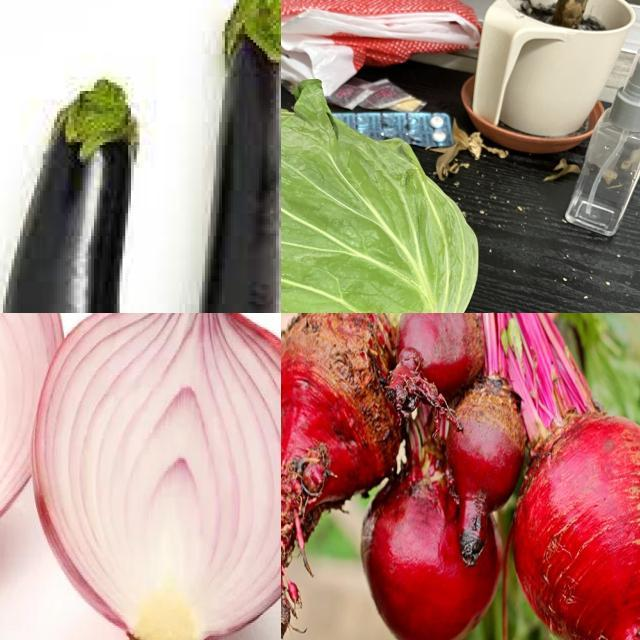beet: (512, 415, 640, 640), (362, 470, 503, 640), (282, 314, 396, 512), (449, 388, 527, 520), (404, 314, 486, 388)
cabbage: (282, 78, 482, 314)
eggplant: (1, 75, 148, 314), (187, 1, 282, 314)
onion: (30, 314, 282, 640), (1, 314, 72, 588)
